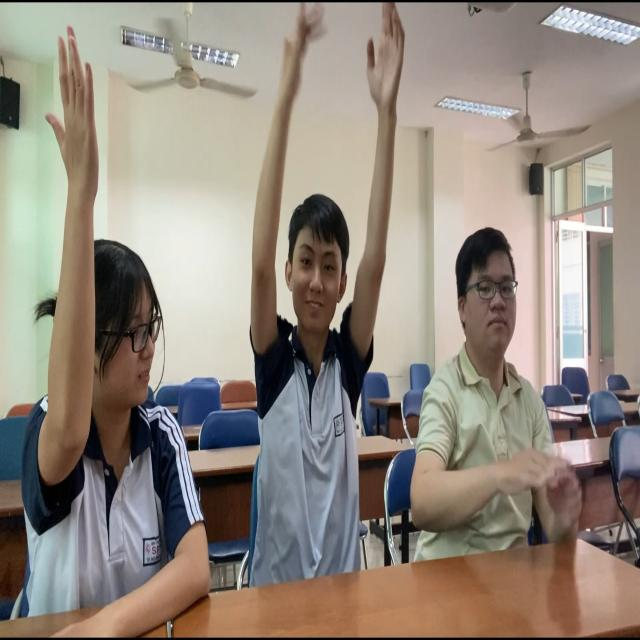raise_hand: (30, 12, 214, 627)
